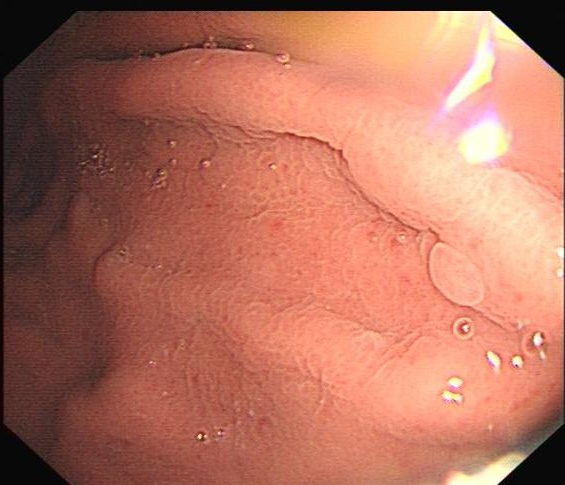Polyp: (413, 229, 499, 327)
